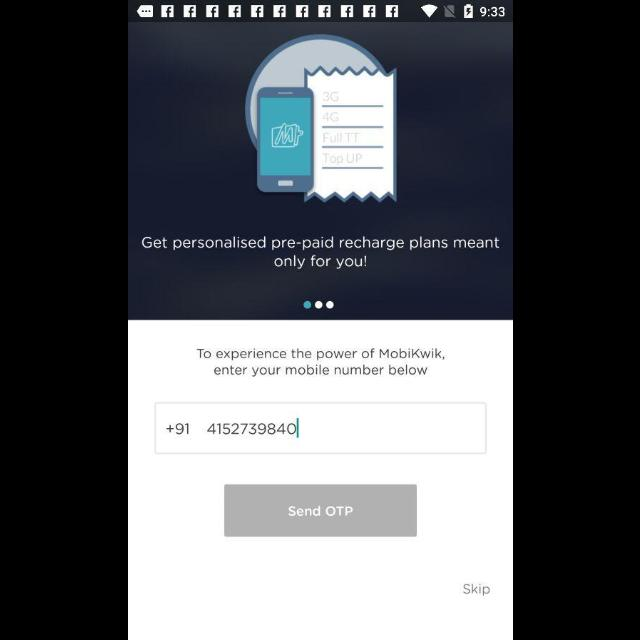image: (243, 34, 397, 206)
input: (154, 403, 486, 455)
pageindicator: (302, 300, 334, 310)
text: (141, 236, 499, 270), (196, 348, 444, 378), (208, 423, 296, 435), (462, 583, 490, 595), (166, 423, 188, 435)
textbutton: (224, 485, 416, 537)
uppertaskbar: (128, 1, 512, 23)
